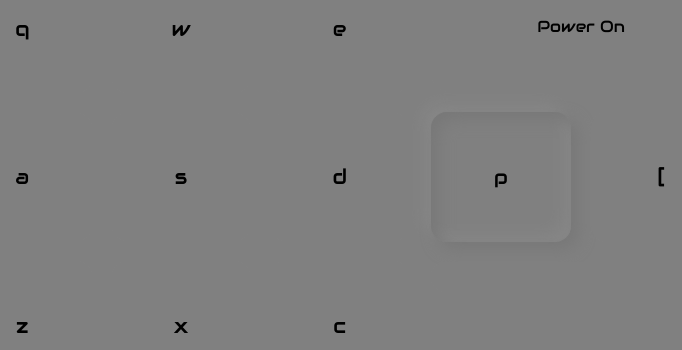
Scenario: App › Should turn off
Step 1. Click the checkbox with test id "power" → x=501, y=177, box top-left (431, 112), bottom-right (571, 242)
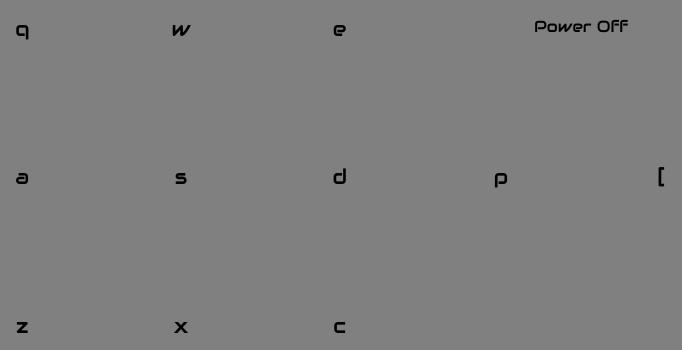
Result: the text with test id "display" reads "Power Off" at top-left (534, 16), bottom-right (628, 37)
